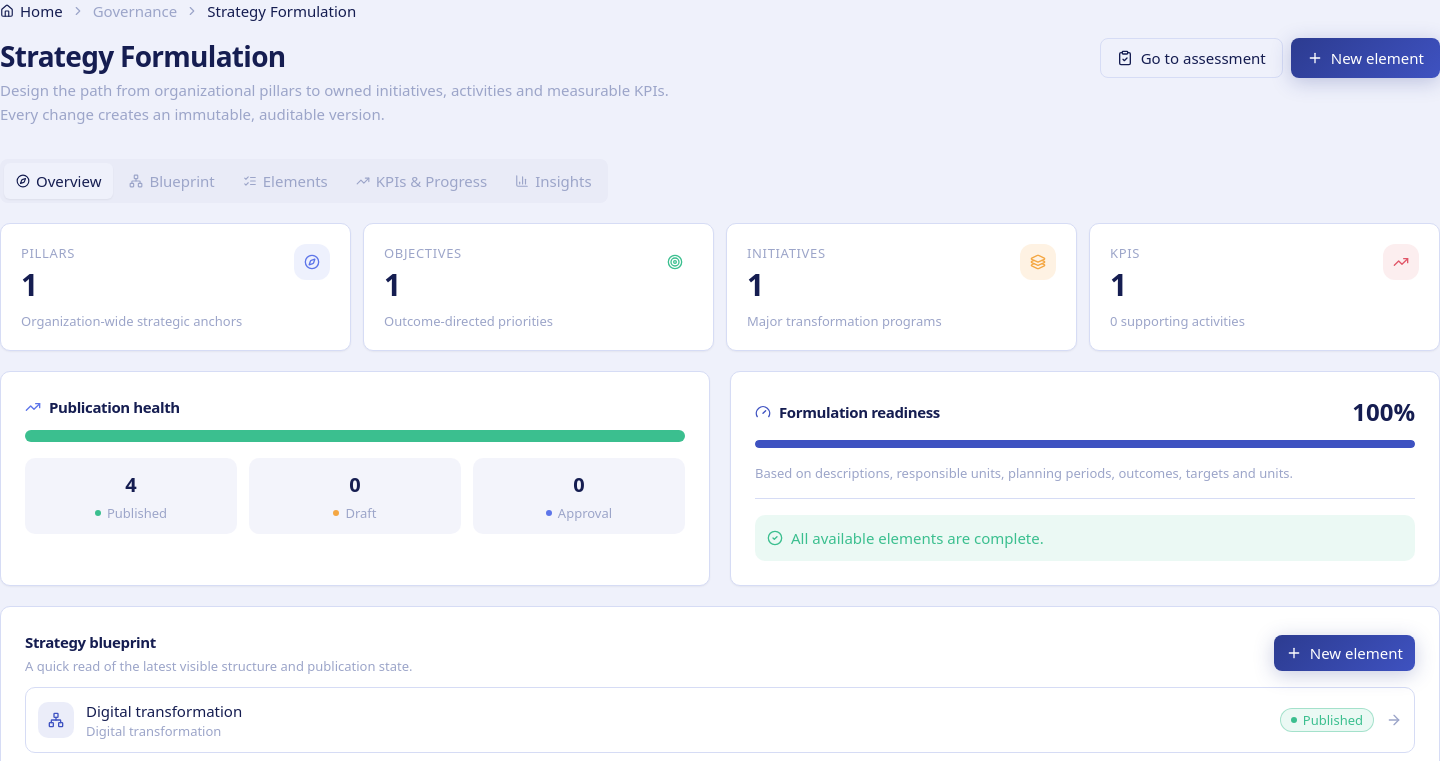
Test: StrategyFormulation API workspace › shows the approver's comments and a new-draft action when revisions are requested
Press the mouse on the tab "KPIs & Progress" at point(422, 181), box left=344, top=163, right=499, bottom=199
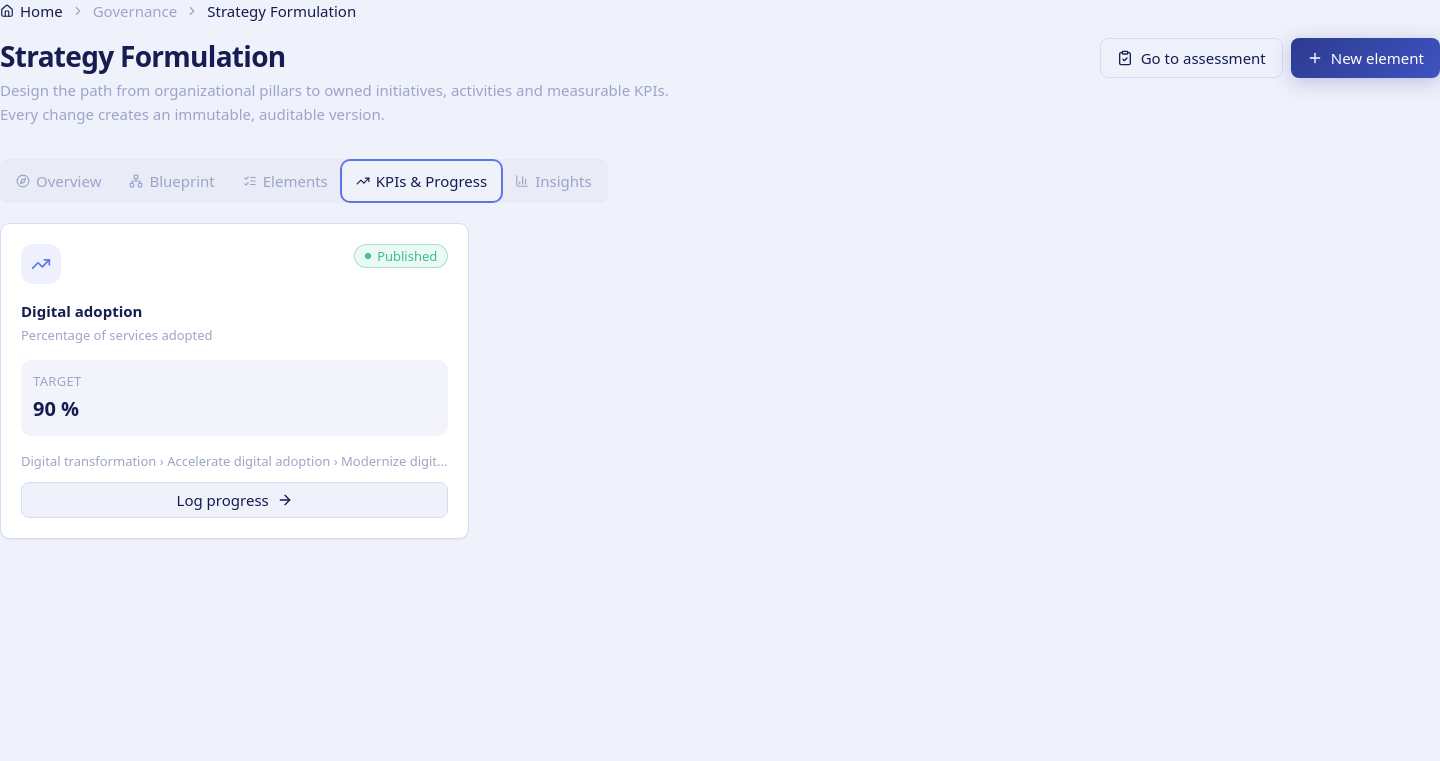
Click the button "Log progress" at point(235, 500), box left=21, top=482, right=448, bottom=518
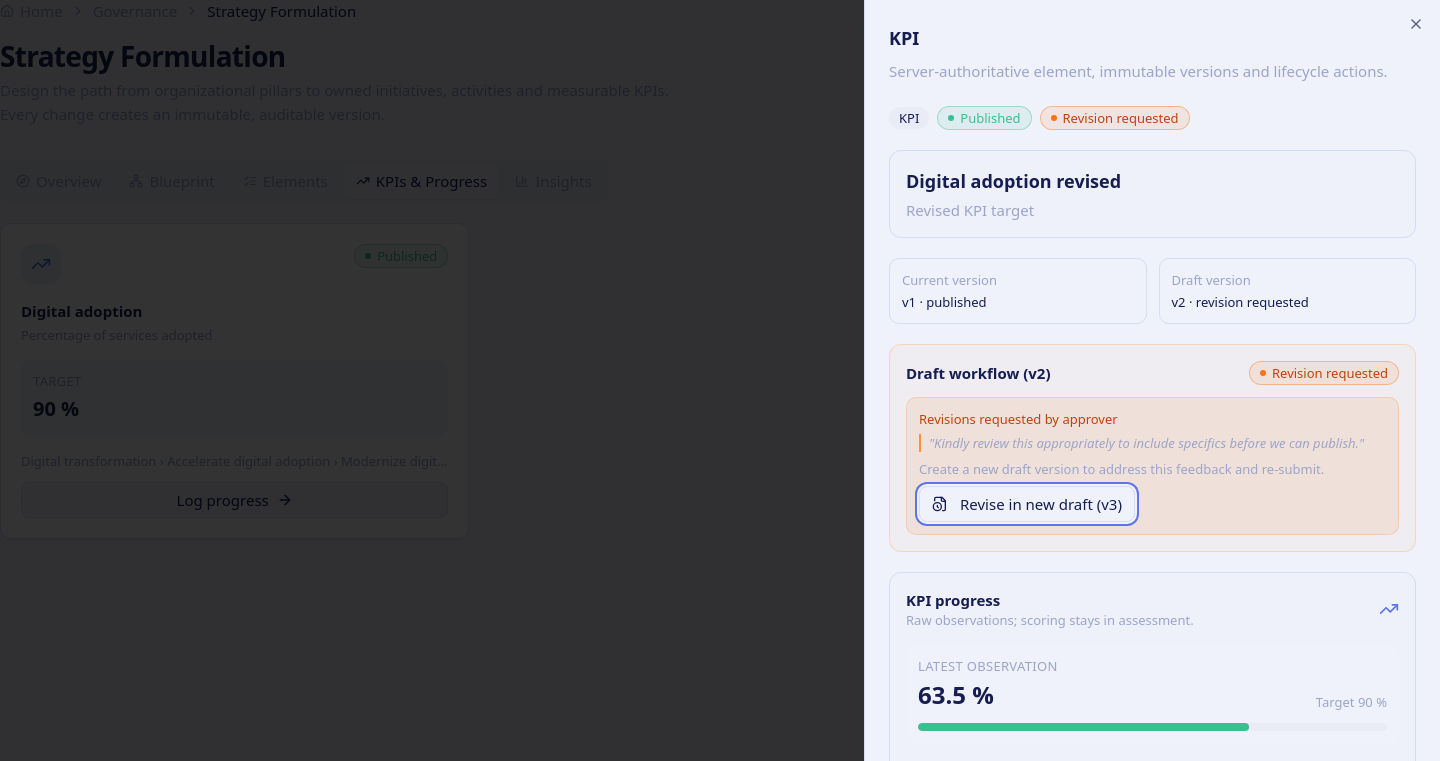
Check: the text "Revisions requested by approver" is shown, box left=919, top=410, right=1118, bottom=428
Check: the text "Kindly review this appropriately" is shown, box left=934, top=434, right=1359, bottom=452
Click the button "Revise in new draft (v3)" at point(1027, 504), box left=919, top=486, right=1135, bottom=522
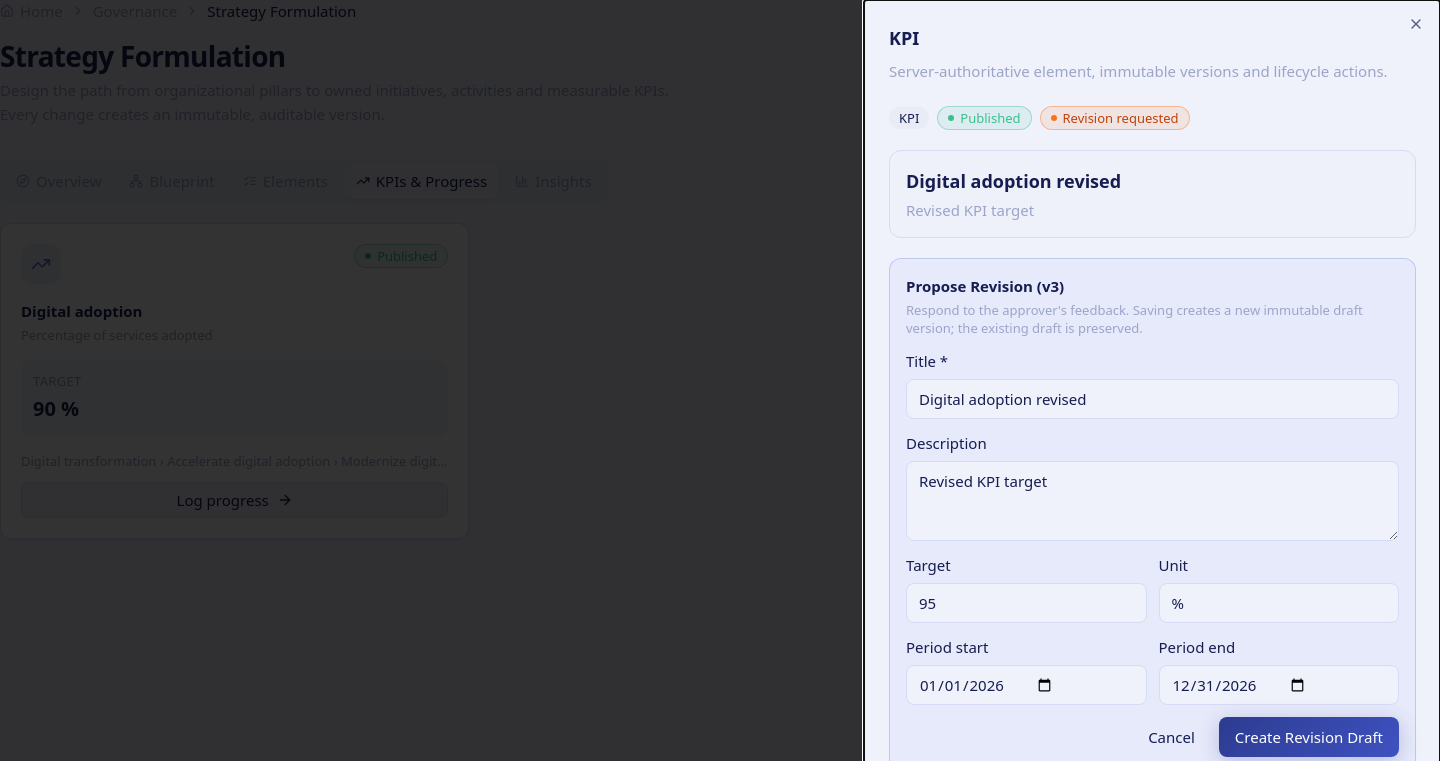
Check: the text "Propose Revision (v3)" is shown, box left=906, top=276, right=1064, bottom=296
Check: the button "Create Revision Draft" is shown, box left=1219, top=717, right=1399, bottom=757
